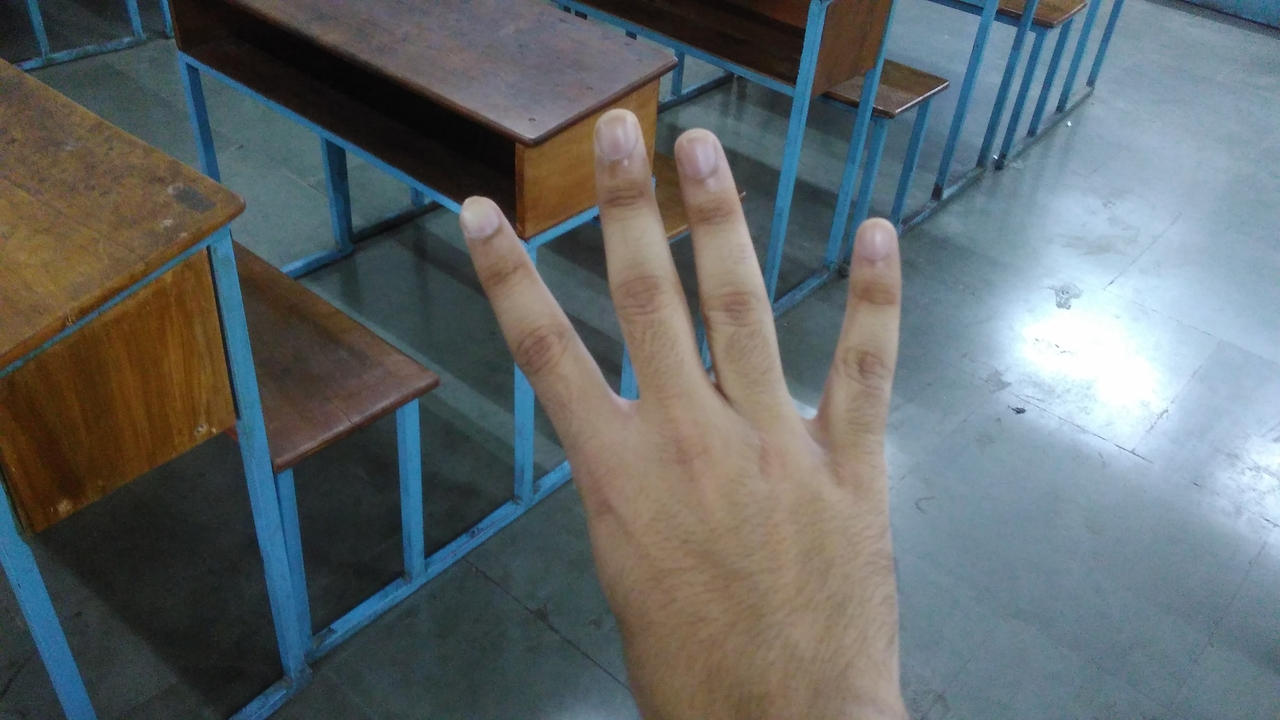fingertip: (442, 190, 512, 254), (580, 104, 652, 164), (666, 122, 734, 182), (852, 212, 908, 274)
